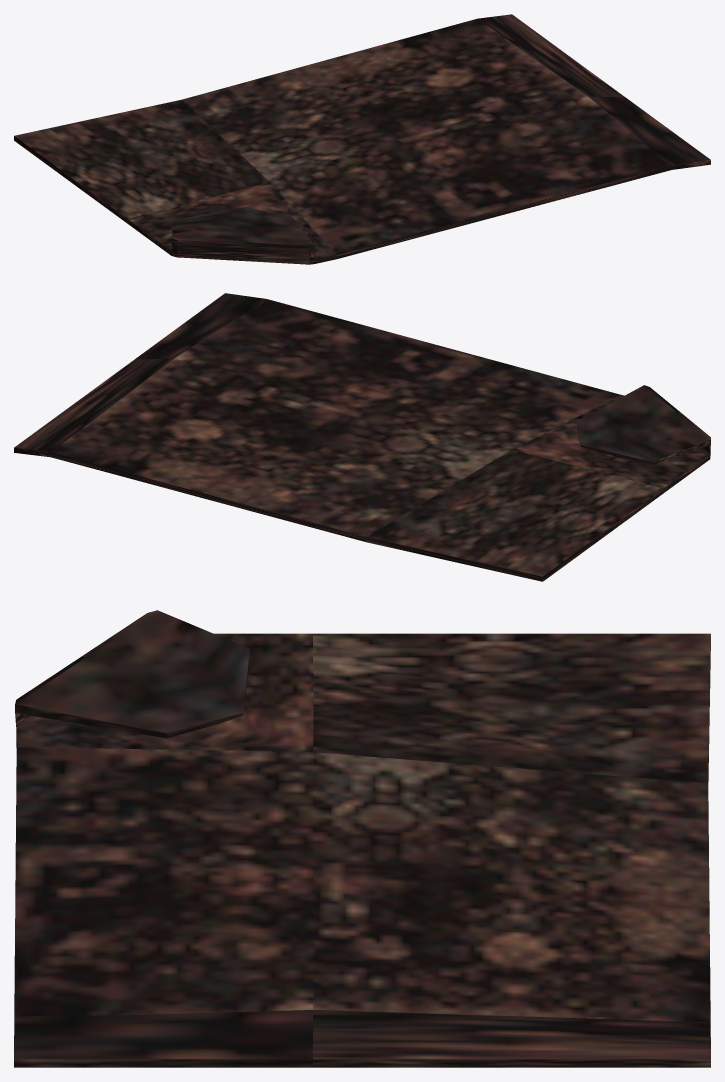
The model's file is carpet2.fbx.
3 renders of one model, top to bottom at view 1: azimuth 30°, elevation 25°; view 2: azimuth 150°, elevation 25°; view 3: azimuth 270°, elevation 25°, orthographic. The views are drawn at different scales.
Visible parts, largest first — view 1: ковер; view 2: ковер; view 3: ковер.
Part boxes in pixels (x1,y1,x2,y2): ковер: (14,14,710,264); ковер: (14,293,710,581); ковер: (14,610,710,1067).
Bounding box in the file's own units: 1136 × 48.12 × 785.
1 material, 1 textured.
